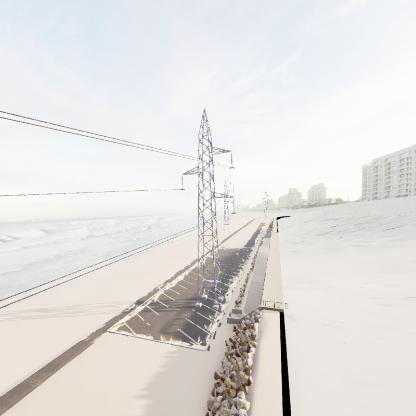tower: (176, 108, 238, 305)
